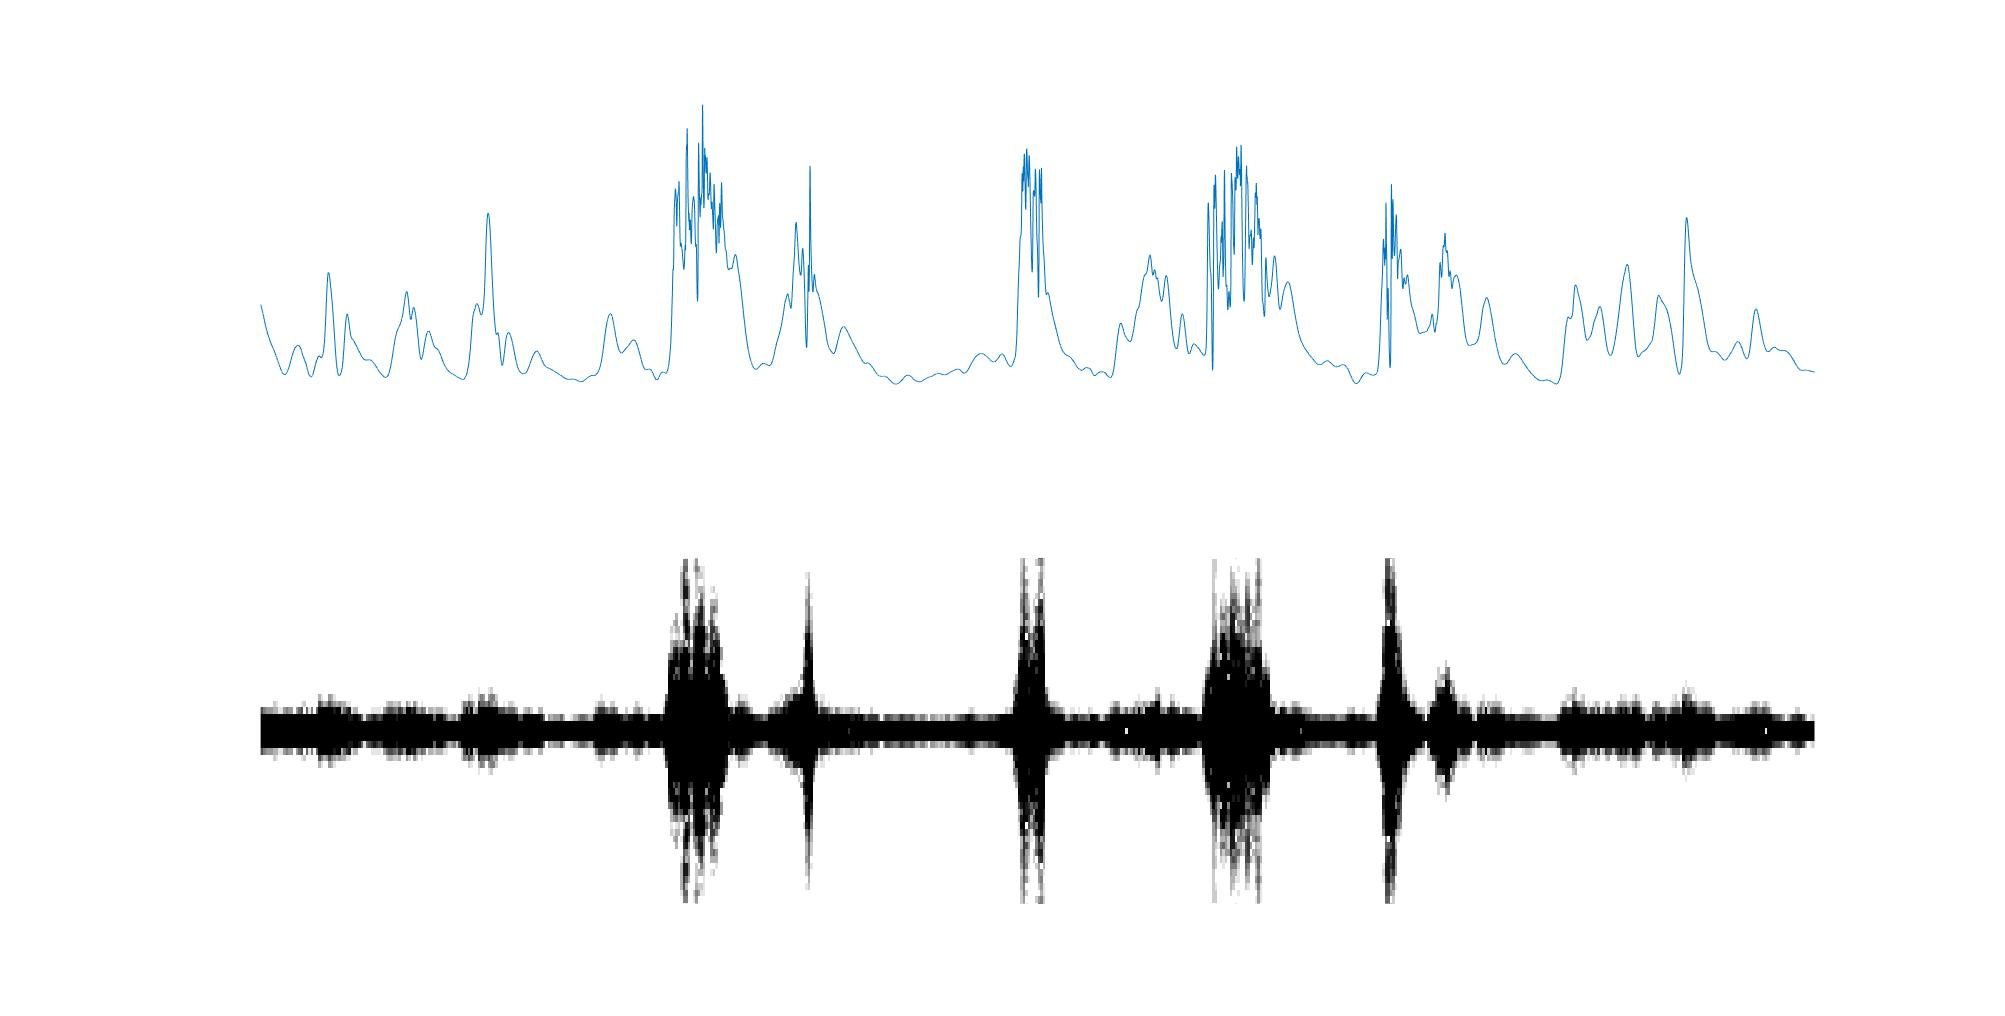spot: (661, 560, 728, 903), (1208, 561, 1268, 905), (1013, 559, 1056, 912), (1379, 556, 1404, 903)
